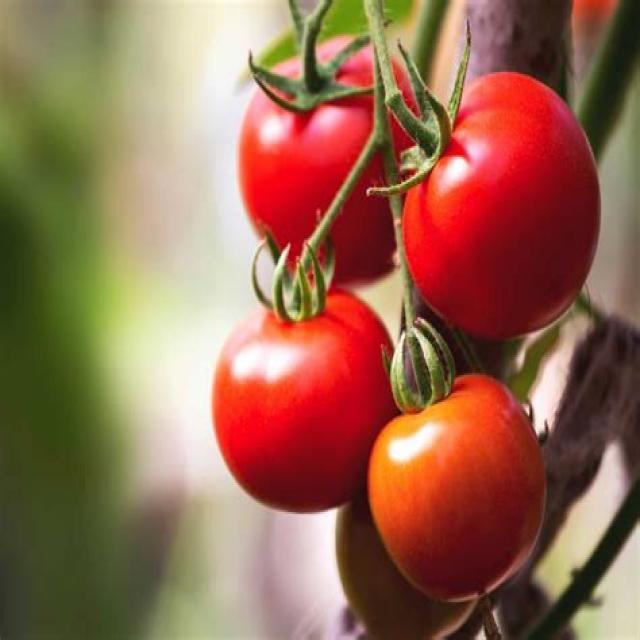Tomato: (400, 73, 603, 340), (214, 272, 402, 516), (369, 374, 545, 602), (237, 25, 377, 261)
